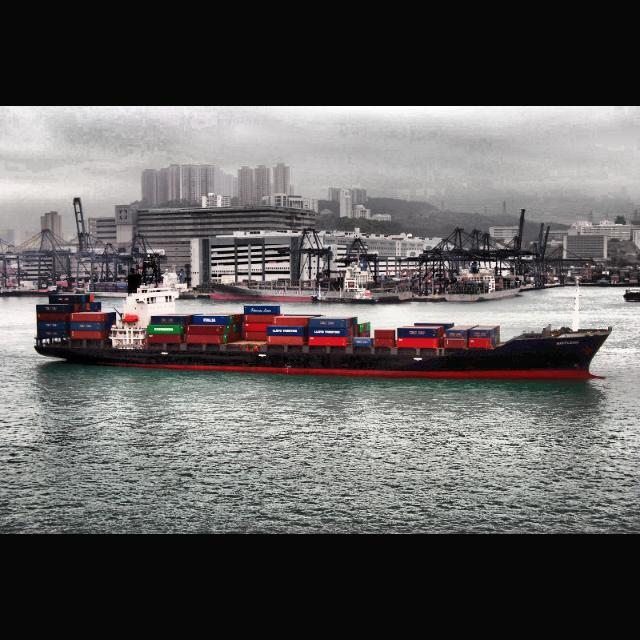container: (33, 262, 614, 382)
